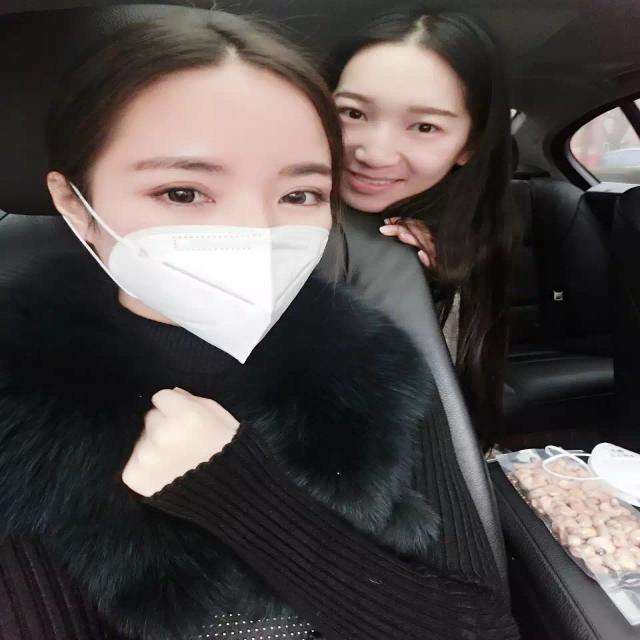mask: (95, 70, 333, 374)
nomask: (325, 44, 466, 215)
